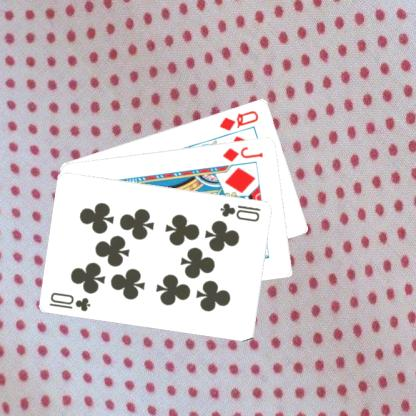10C: (47, 289, 92, 313), (218, 199, 262, 223)
JD: (219, 144, 264, 163)
QD: (216, 107, 260, 132)
